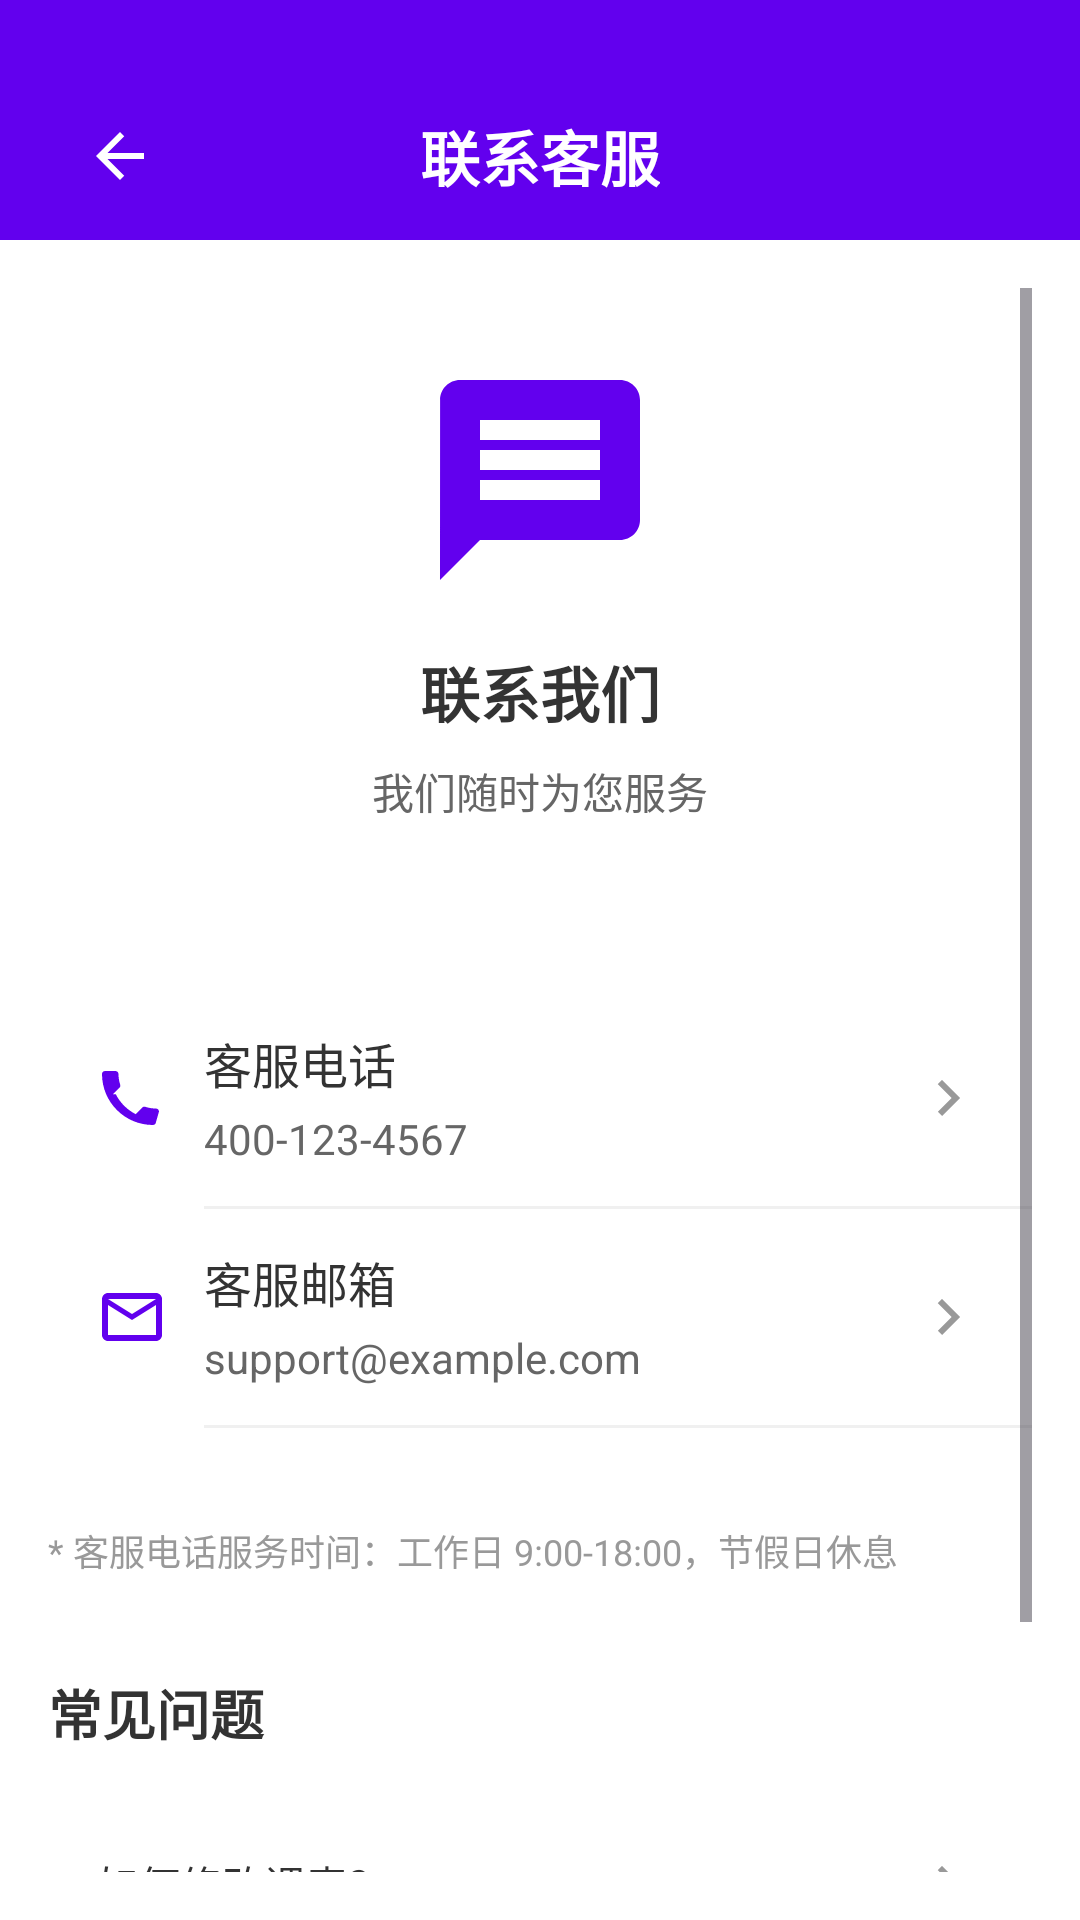

Where to tap for icons on this 1080 x 1920 app screen, as (x=x, y=y):
chevron right: (x=949, y=1098), (x=949, y=1317)
email: (x=132, y=1317)
message: (x=540, y=480)
phone: (x=130, y=1098)
返回: (x=120, y=156)
